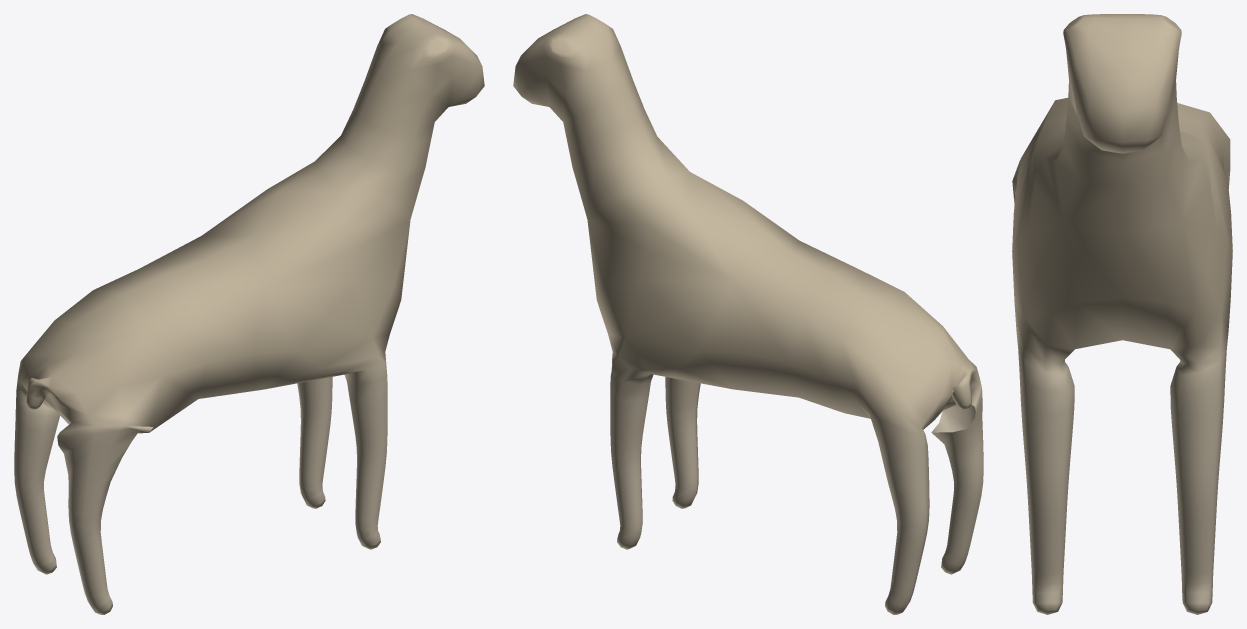
Rendered from alpaca.glb.
3 views of the same model, side by side, from view 1: azimuth 30°, elevation 25°; view 2: azimuth 150°, elevation 25°; view 3: azimuth 270°, elevation 25° (orthographic). The views are drawn at different scales.
Parts seen in each view (by area): view 1: alpaca; view 2: alpaca; view 3: alpaca.
Boxes of the visible parts, x1,y1,x2,y2 form: alpaca: (14, 14, 484, 614); alpaca: (513, 14, 983, 614); alpaca: (1012, 14, 1232, 614).
Bounding box in the file's own units: 1.86 × 1.9 × 0.5848.
